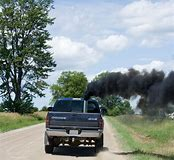smoke: (81, 67, 174, 108)
